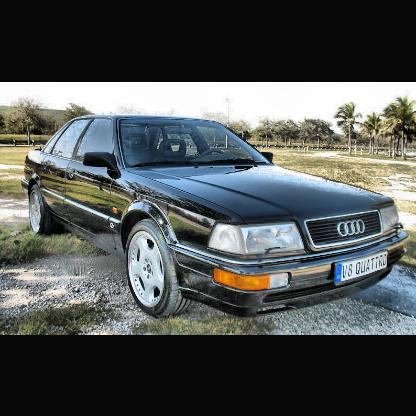Audi V8 Sedan 1994: (18, 111, 411, 319)
